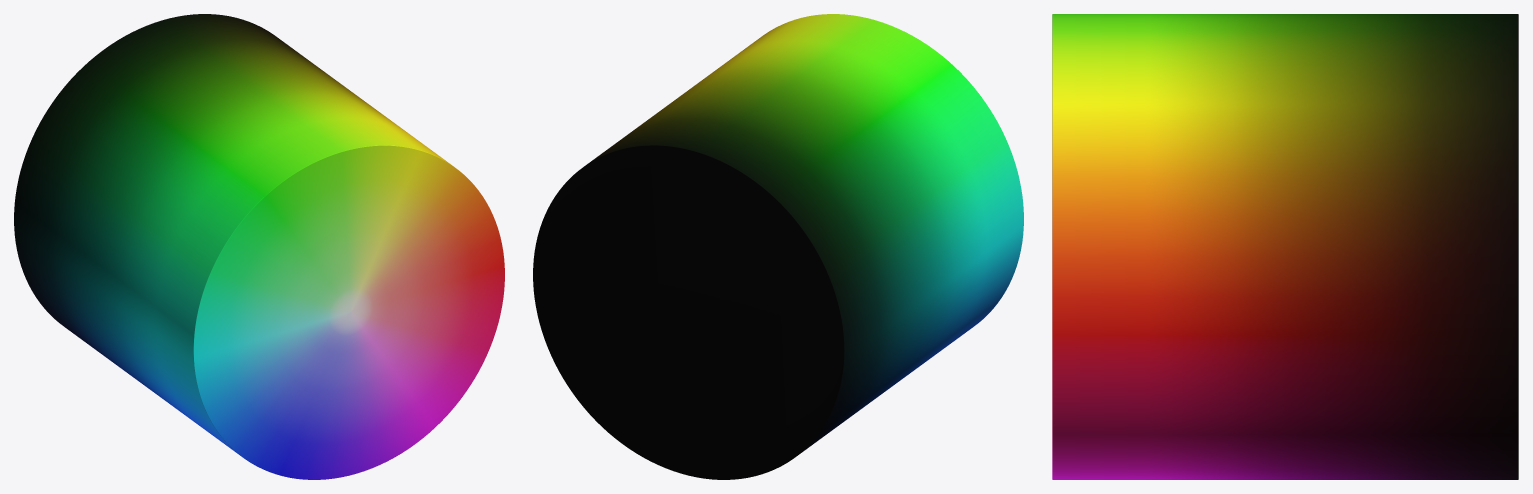
The picture shows the model from 3 angles, left to right: view 1: azimuth 30°, elevation 25°; view 2: azimuth 150°, elevation 25°; view 3: azimuth 270°, elevation 25°; orthographic projection. The views are drawn at different scales.
Parts seen in each view (by area): view 1: model_0; view 2: model_0; view 3: model_0.
Boxes of the visible parts, <box> form: model_0: <box>14,14,504,479</box>; model_0: <box>533,14,1023,479</box>; model_0: <box>1052,14,1518,479</box>.
Size of the model in its own units: 2 by 2 by 2.
Materials: 1 (1 with a texture image).
